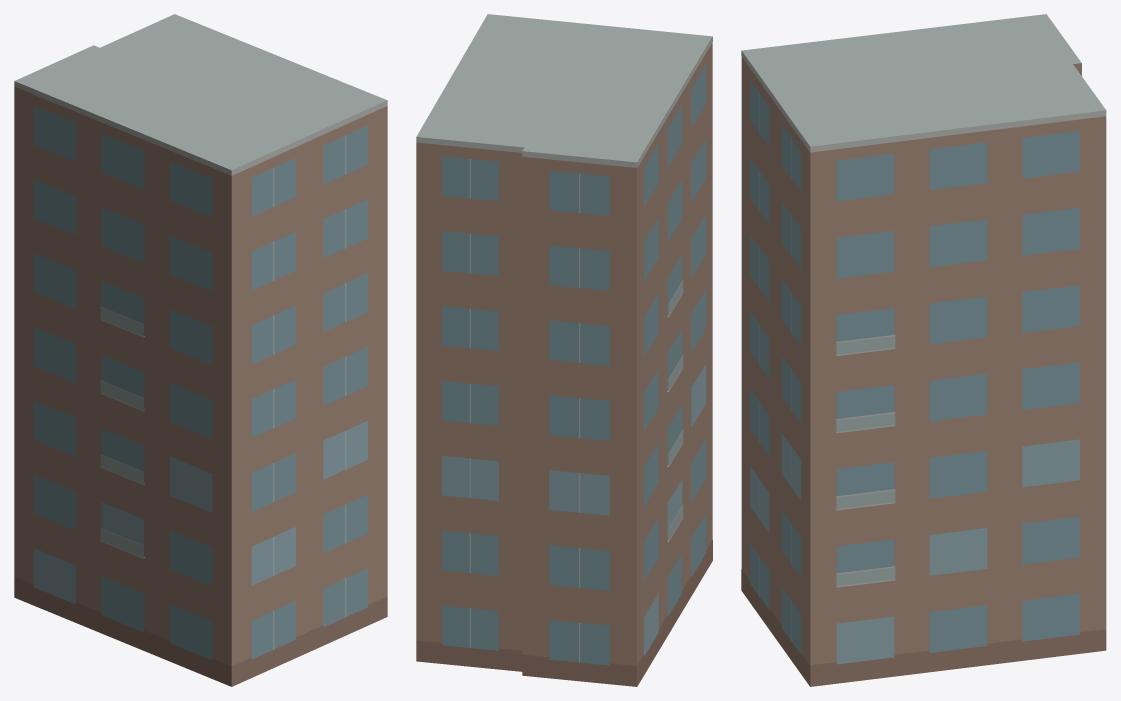
The model's file is survey-upis-32959896.glb.
3 renders of one model, left to right at view 1: azimuth 30°, elevation 25°; view 2: azimuth 150°, elevation 25°; view 3: azimuth 270°, elevation 25°, orthographic. The views are drawn at different scales.
Parts seen in each view (by area): view 1: survey-upis-32959896.tmp; view 2: survey-upis-32959896.tmp; view 3: survey-upis-32959896.tmp.
Part boxes in pixels (x1=…): survey-upis-32959896.tmp: x1=14, y1=14, x2=387, y2=686; survey-upis-32959896.tmp: x1=416, y1=14, x2=712, y2=686; survey-upis-32959896.tmp: x1=741, y1=14, x2=1106, y2=686.
Bounding box in the file's own units: 12 × 22.75 × 13.94.
